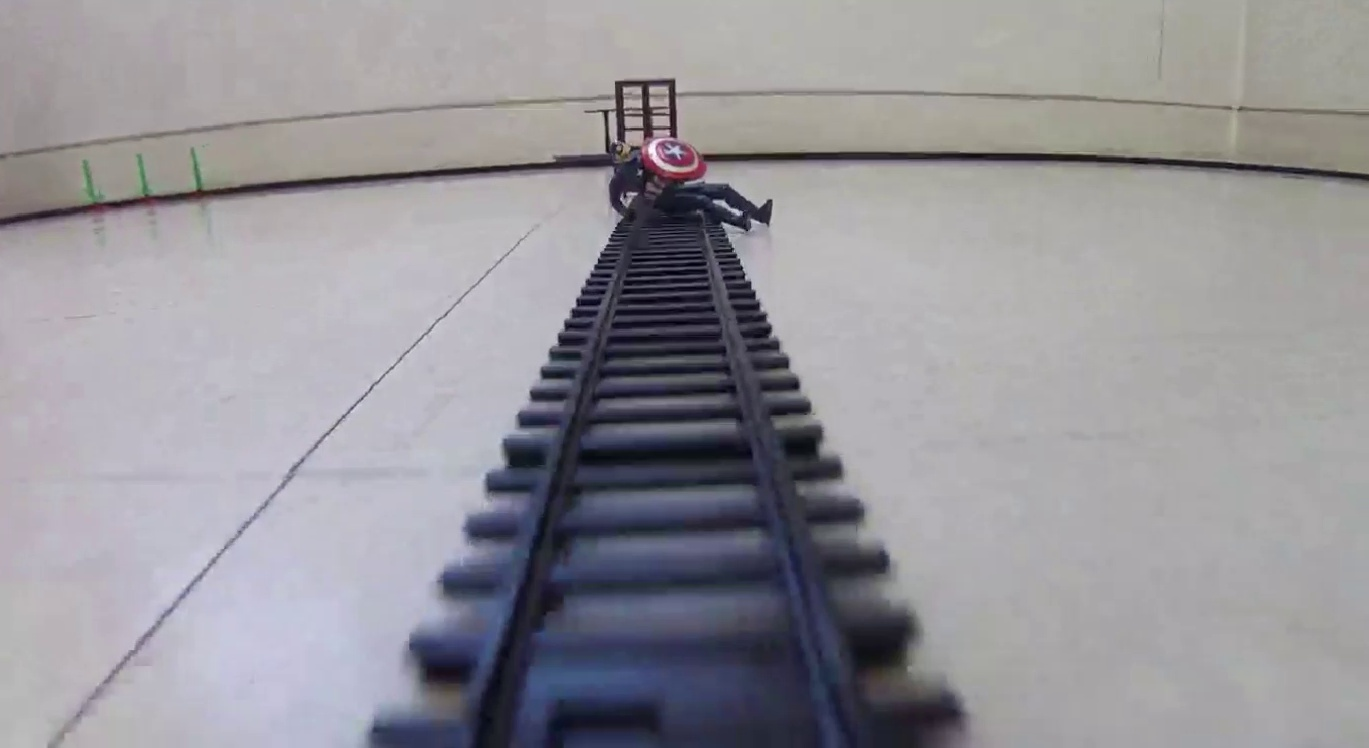people: (609, 136, 773, 229)
